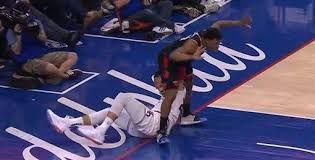fall: (39, 64, 181, 145)
